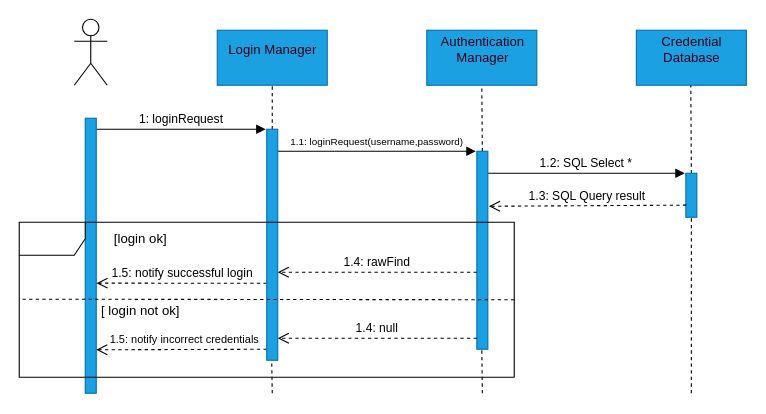
This 766x414 diagram has some shape labels left out. Each missing label, with the box of its shape:
alt: (18, 221, 514, 377)
Authority: (73, 18, 107, 85)
